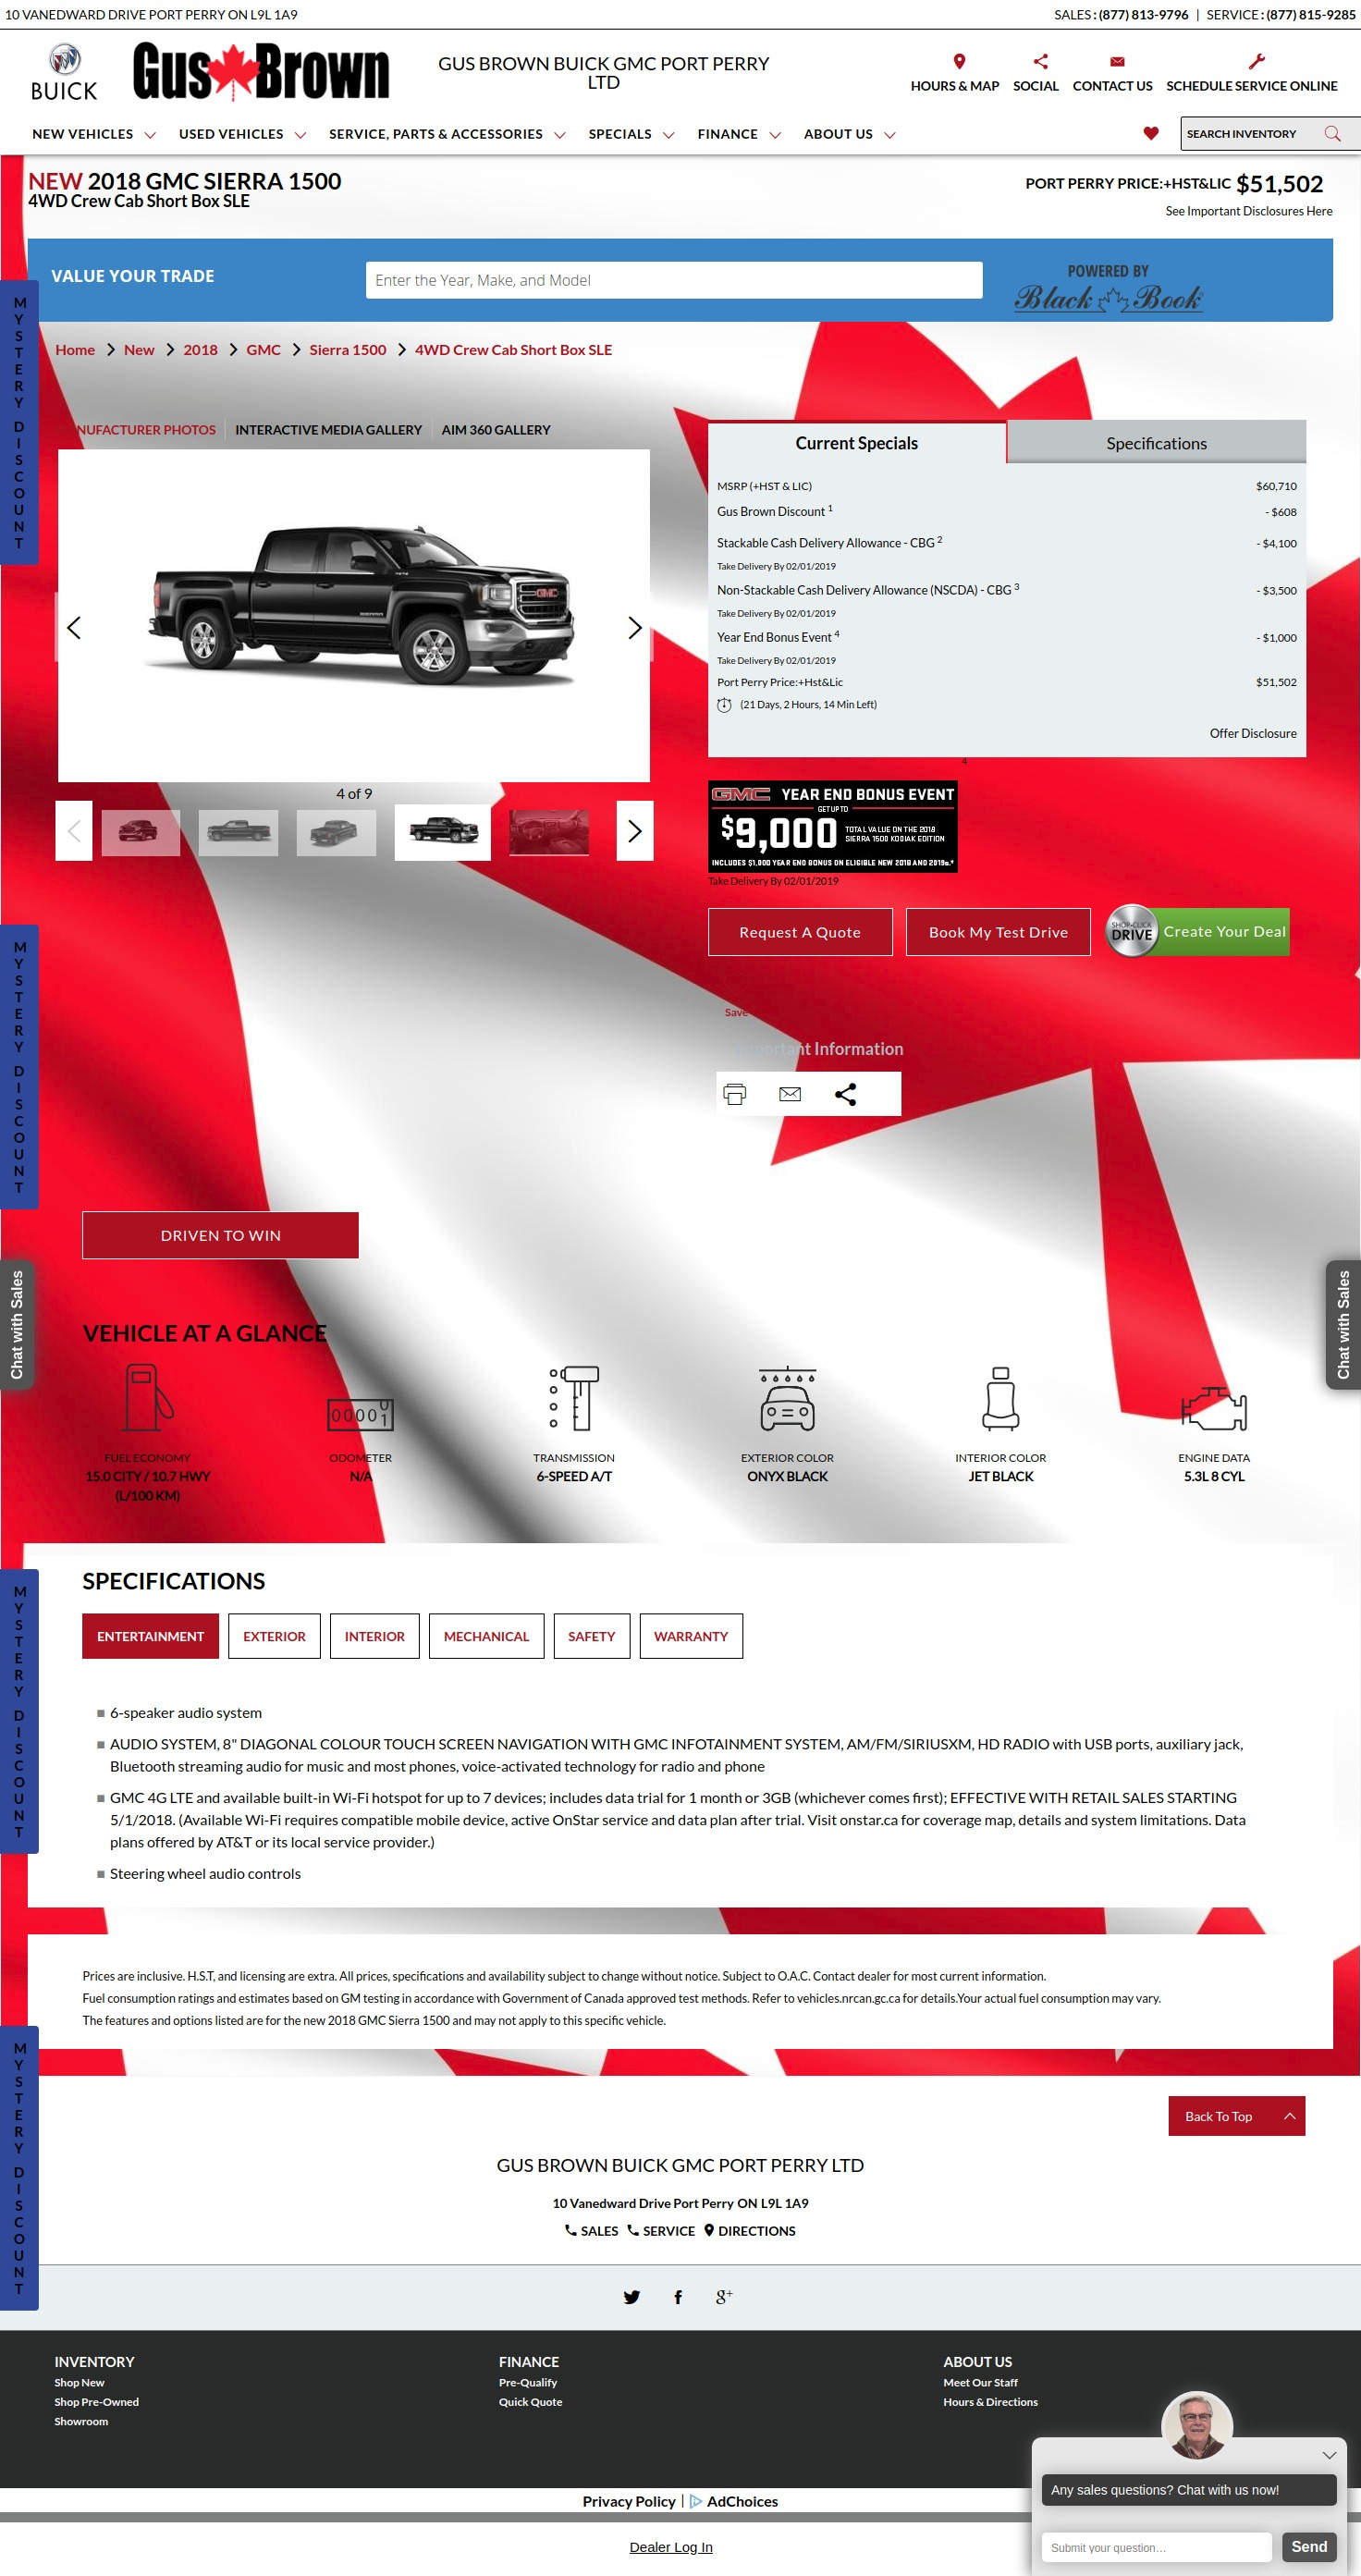car: (629, 819, 644, 843)
